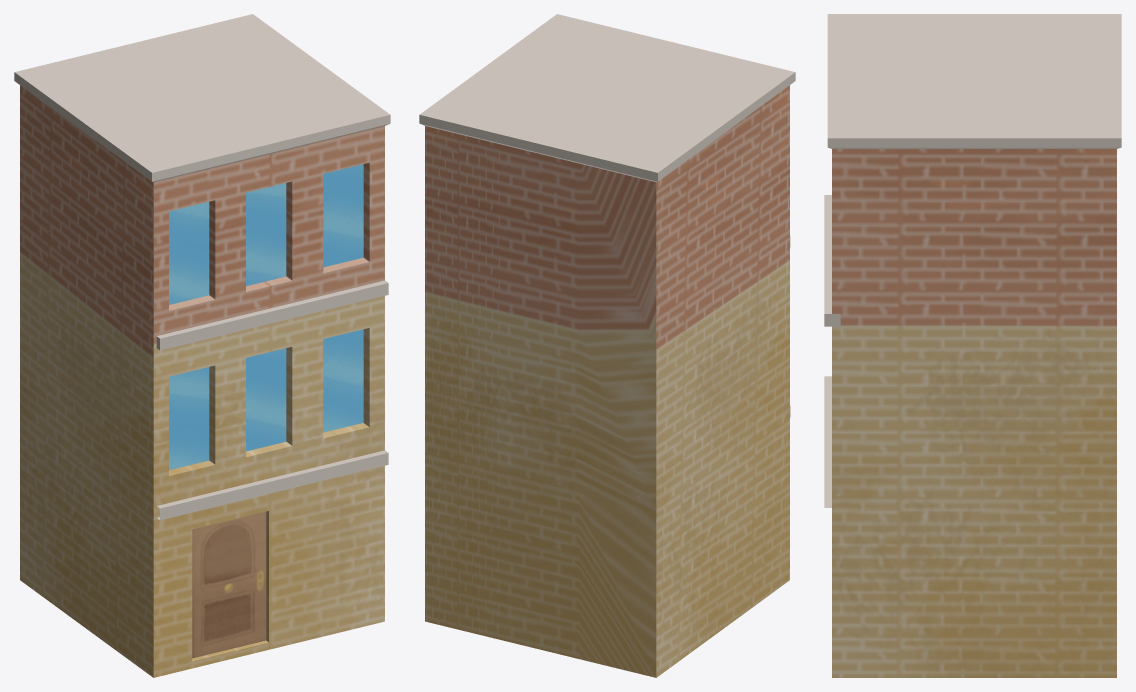
File: SM_cassa_4.fbx
3 views of the same model, side by side, from view 1: azimuth 30°, elevation 25°; view 2: azimuth 150°, elevation 25°; view 3: azimuth 270°, elevation 25° (orthographic). The views are drawn at different scales.
Parts seen in each view (by area): view 1: Casa_0.007; view 2: Casa_0.007; view 3: Casa_0.007.
Part boxes in pixels (box(x1,y1,x2,y2)): Casa_0.007: box(14, 14, 390, 677); Casa_0.007: box(419, 14, 795, 677); Casa_0.007: box(824, 14, 1121, 677).
Bounding box in the file's own units: 641 × 1303 × 648.
